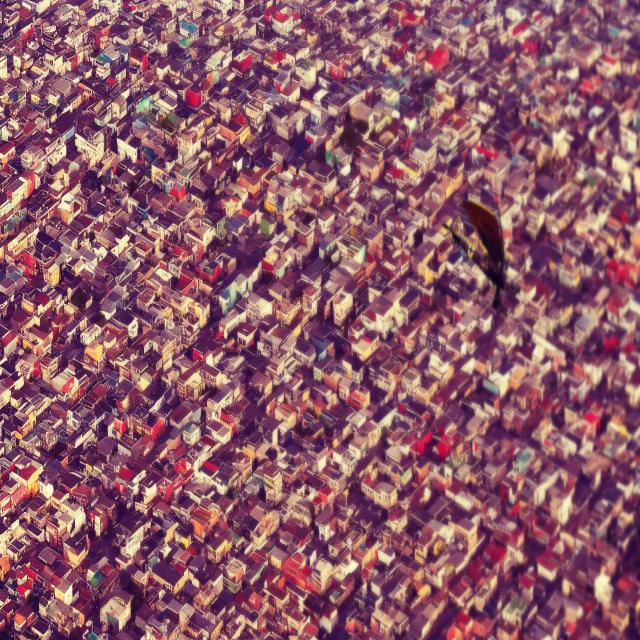airplane: (442, 197, 514, 309)
